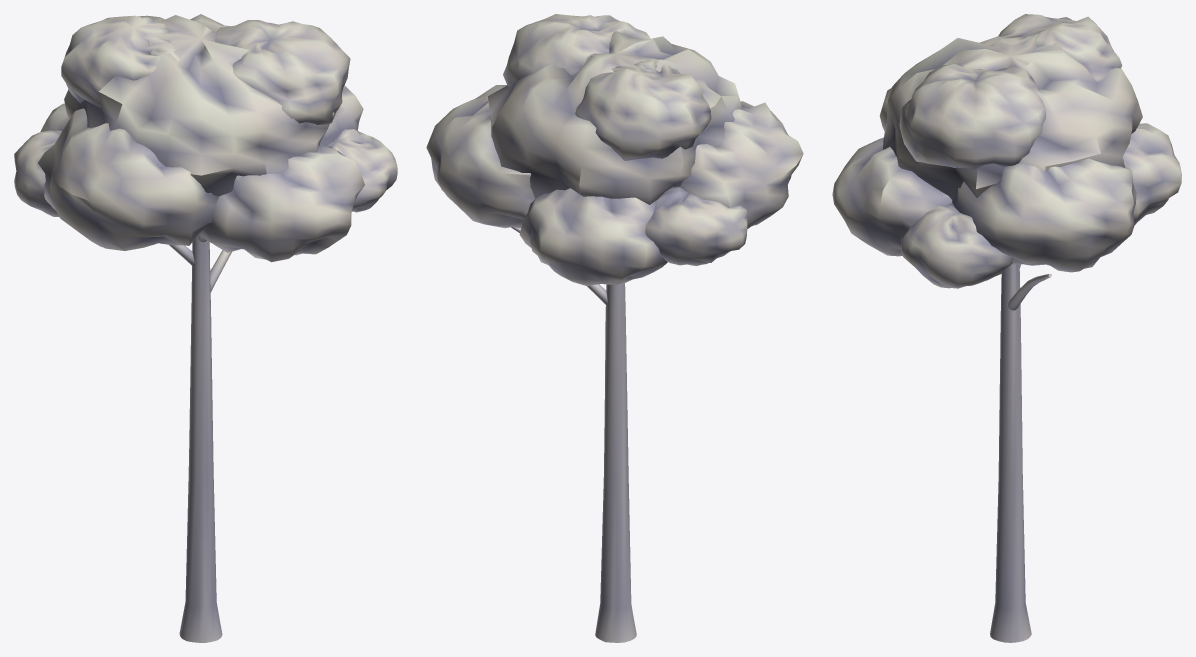
File: sal-tree.glb
The picture shows the model from 3 angles, left to right: view 1: azimuth 30°, elevation 25°; view 2: azimuth 150°, elevation 25°; view 3: azimuth 270°, elevation 25°; orthographic projection. The views are drawn at different scales.
Visible parts, largest first — view 1: body; view 2: body; view 3: body.
Boxes of the visible parts, <box> form: body: <box>14,14,397,642</box>; body: <box>426,14,803,642</box>; body: <box>832,14,1181,642</box>.
Size of the model in its own units: 6.18 by 11.24 by 6.02.
